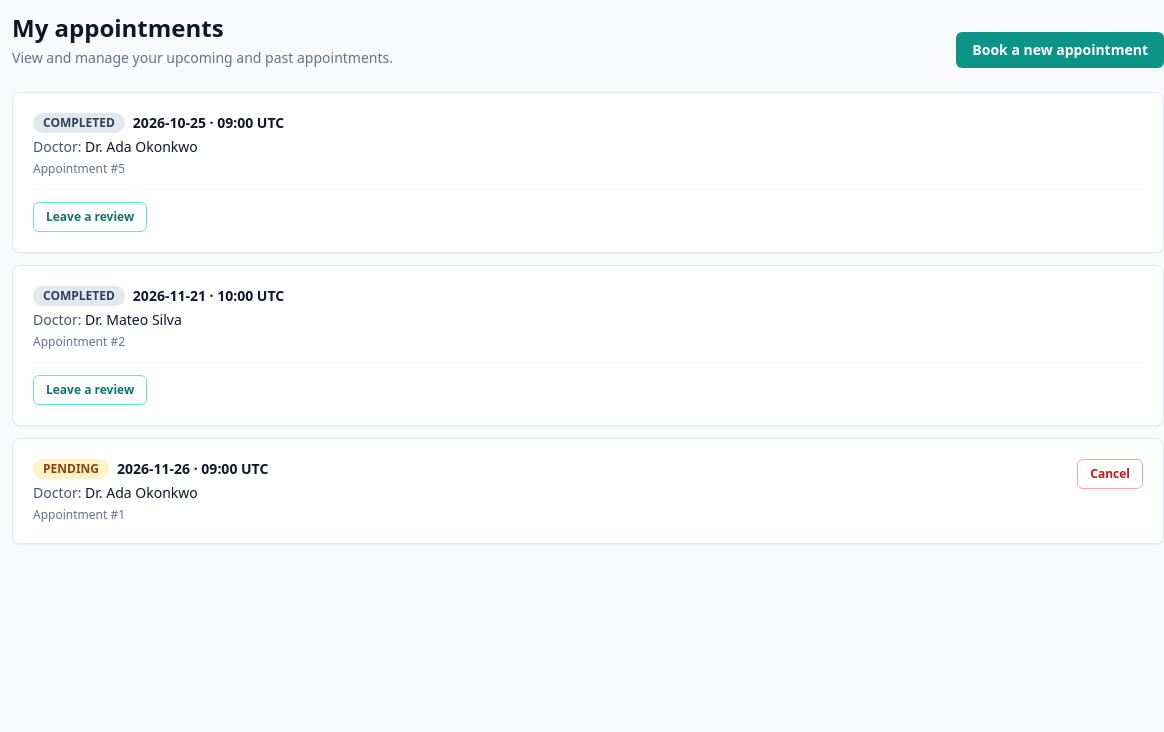
Test: MyAppointmentsPage › lets a patient cancel an upcoming appointment
The width and height of the screenshot is (1164, 732).
What coordinates should you click on to do the following:
click the button with aria-label "cancel appointment 1"
I would click on:
 (1110, 474)
Its box is [1077,459,1143,489].
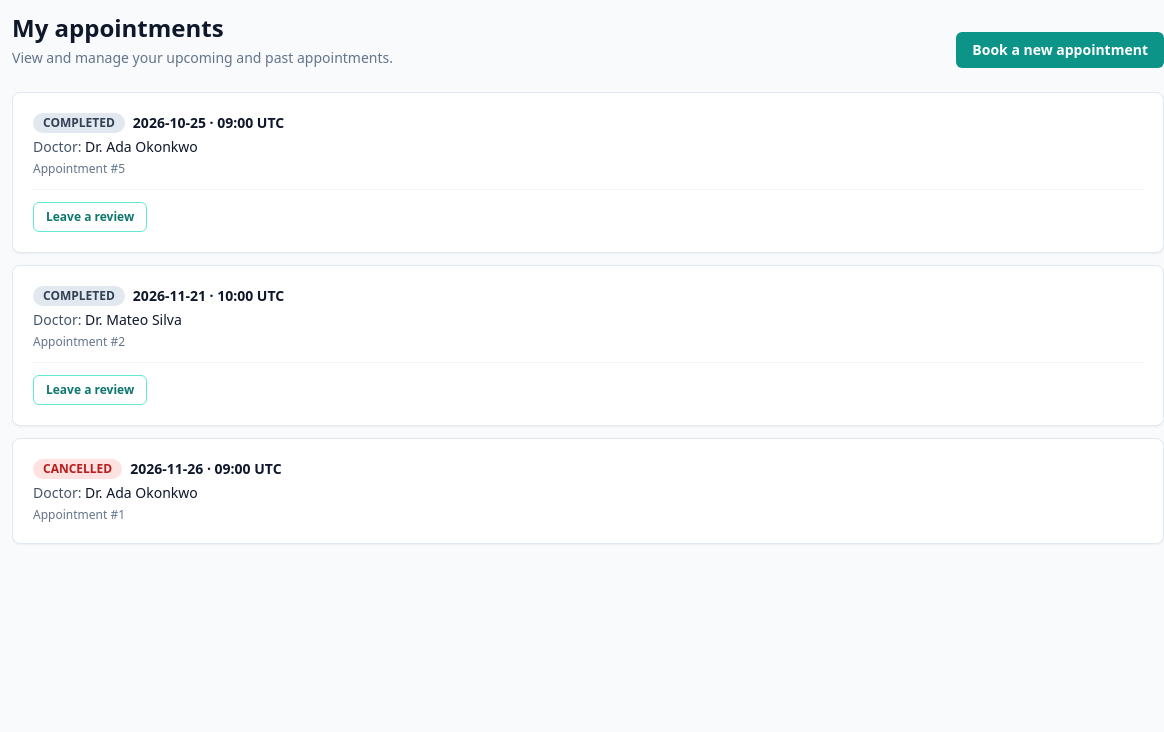
Expected: the text "CANCELLED" is shown, [33,459,122,479]
